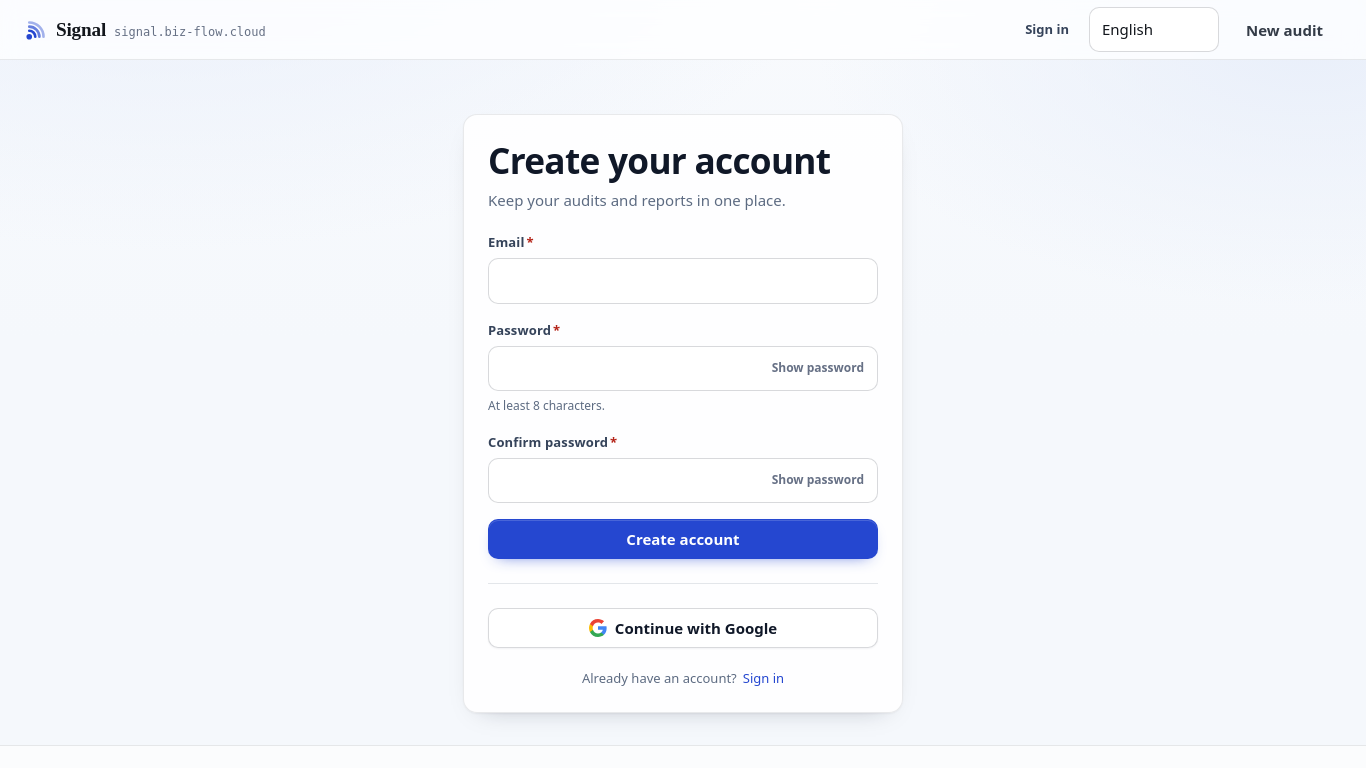
Test: Cadastro › valida confirmação de senha divergente e senha fraca
The image size is (1366, 768).
Type "novo@signal.test" into the field labelled "Email*". click: (683,281)
box: [488, 258, 878, 304]
Type "senha-longa-1" into the password field labelled "Password*". click: (683,368)
box: [488, 346, 878, 391]
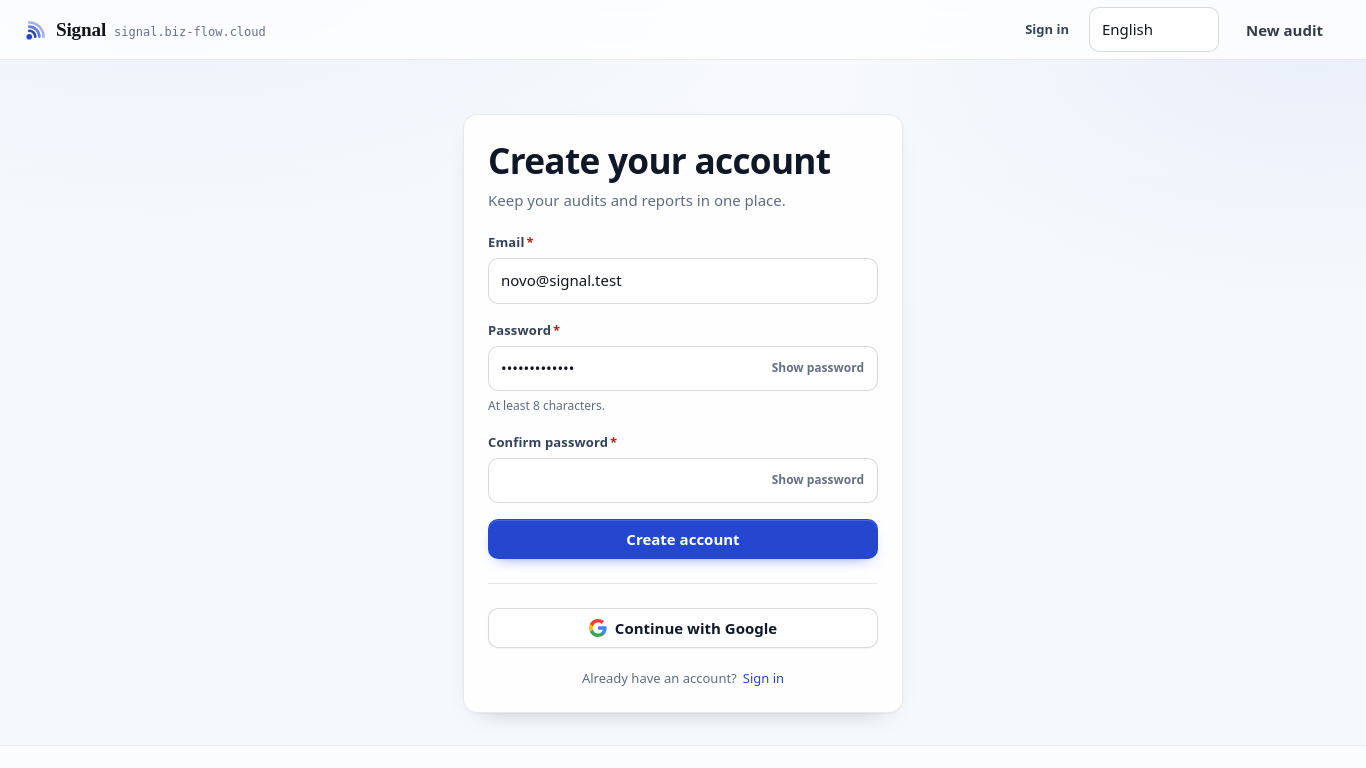
Type "senha-diferente" into the password field labelled "Confirm password*". click: (683,480)
box: [488, 458, 878, 503]
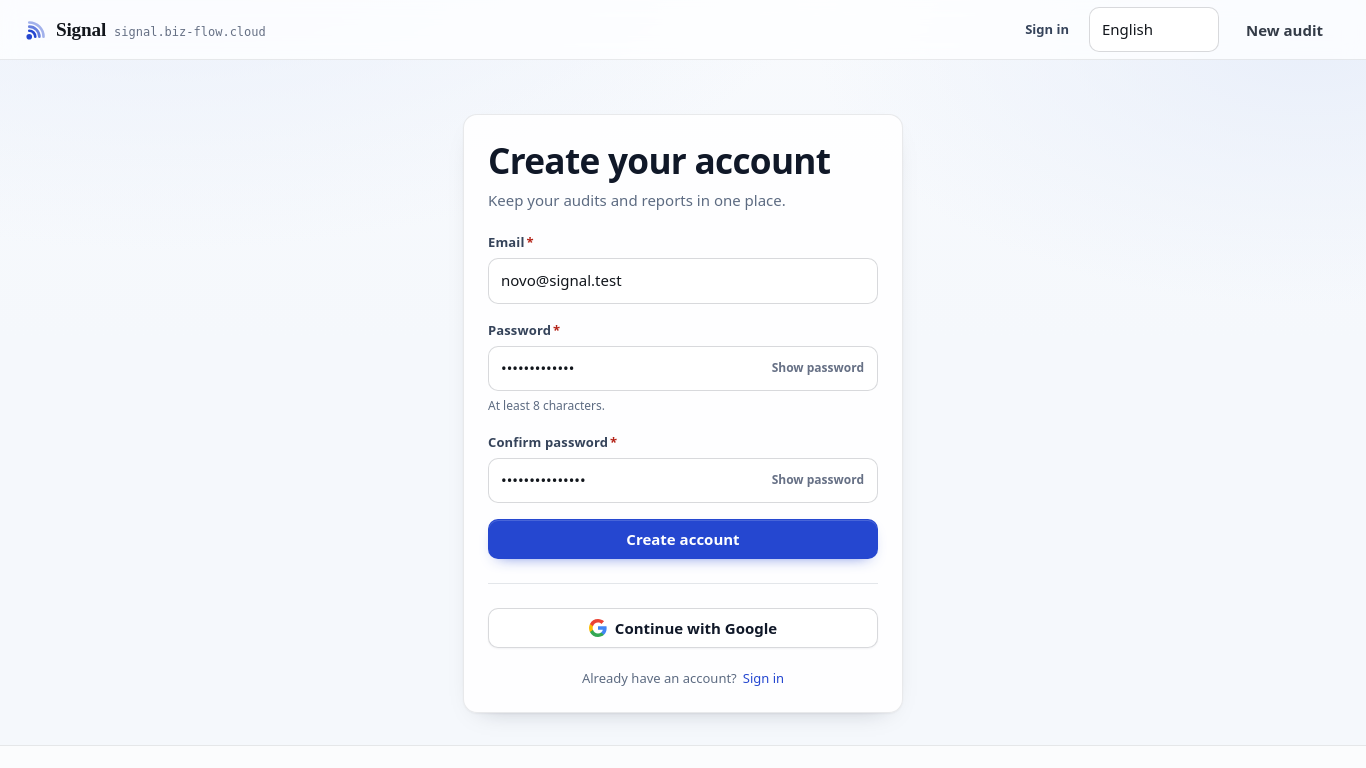
Click the button "Create account". click: (683,539)
box: [488, 519, 878, 559]
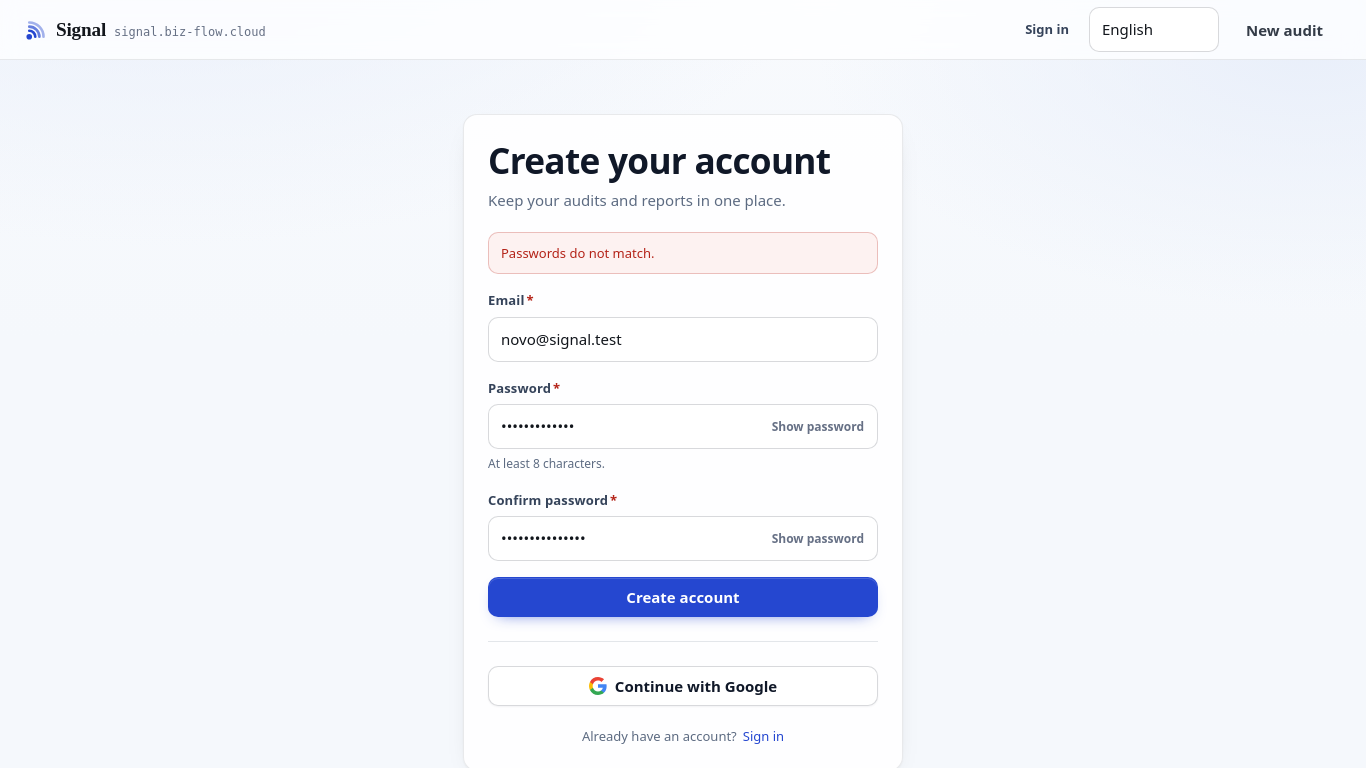
Now the message reads "Passwords do not match.", box [501, 244, 654, 262]
Type "curta" into the password field labelled "Password*". click: (683,427)
box: [488, 404, 878, 449]
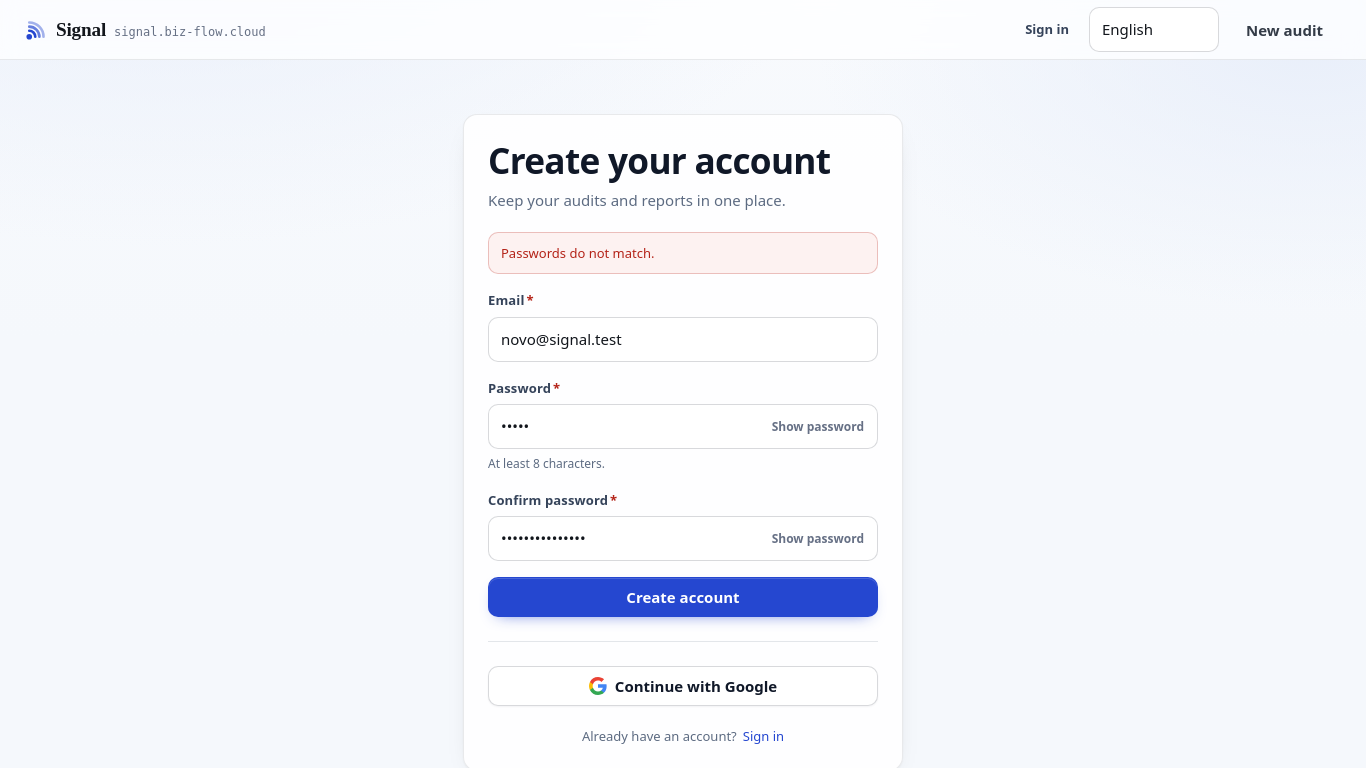
Type "curta" into the password field labelled "Confirm password*". click: (683,539)
box: [488, 516, 878, 561]
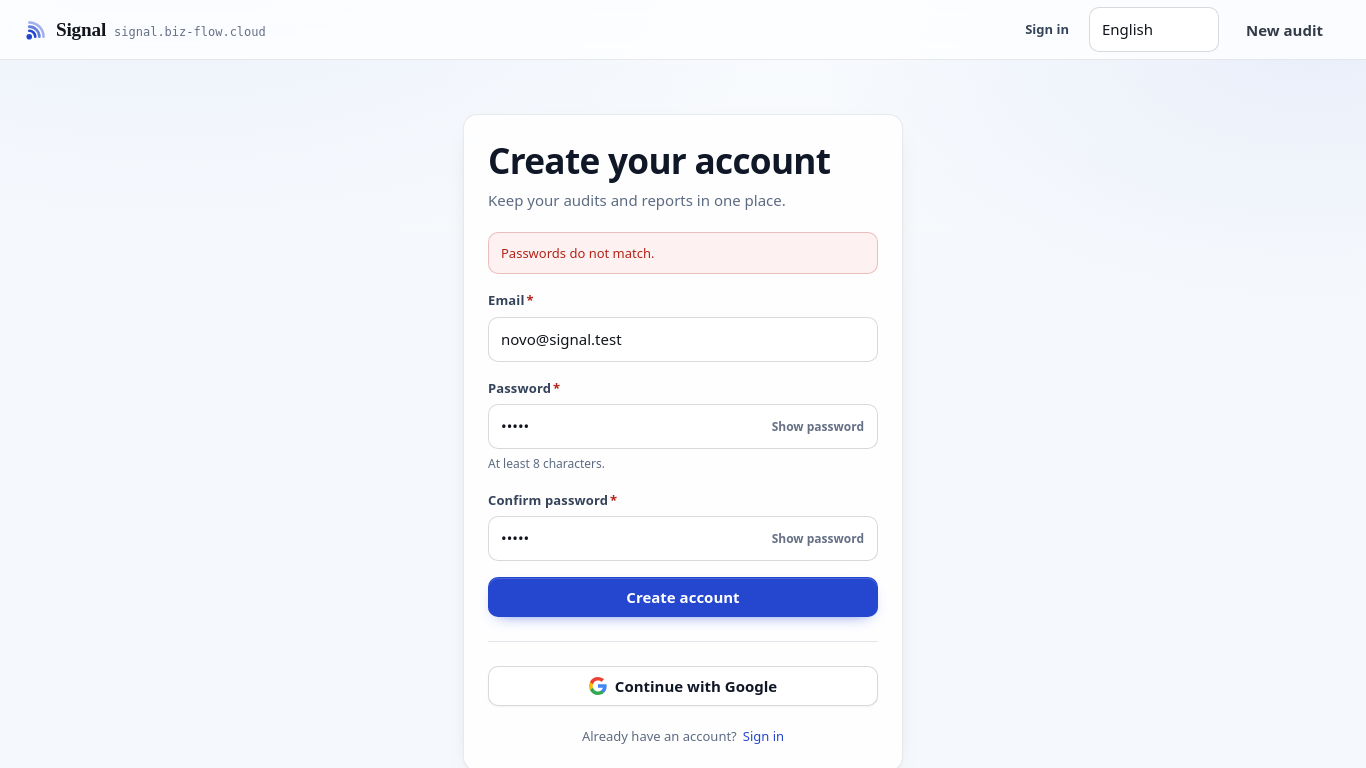
Click the button "Create account". click: (683,597)
box: [488, 577, 878, 617]
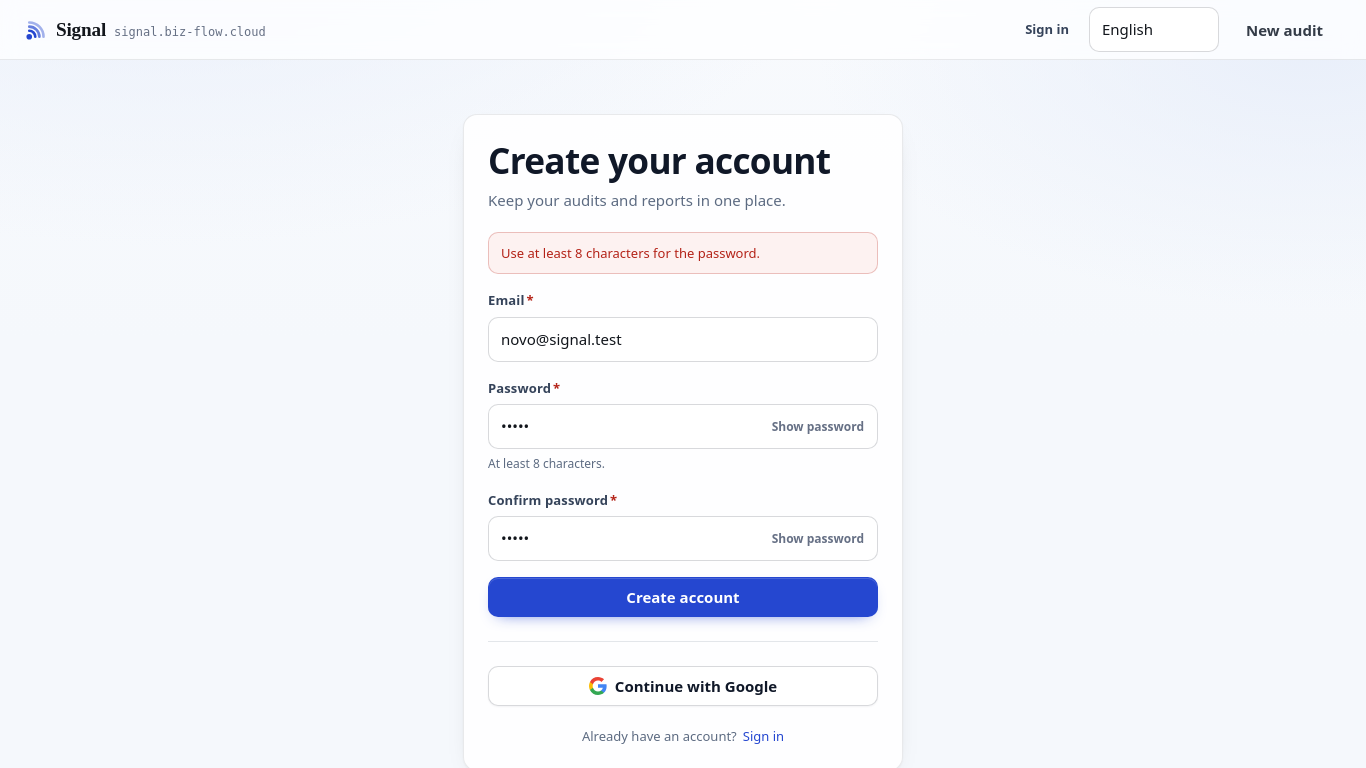
Now the message shows "Use at least 8 characters", box [501, 244, 760, 262]
